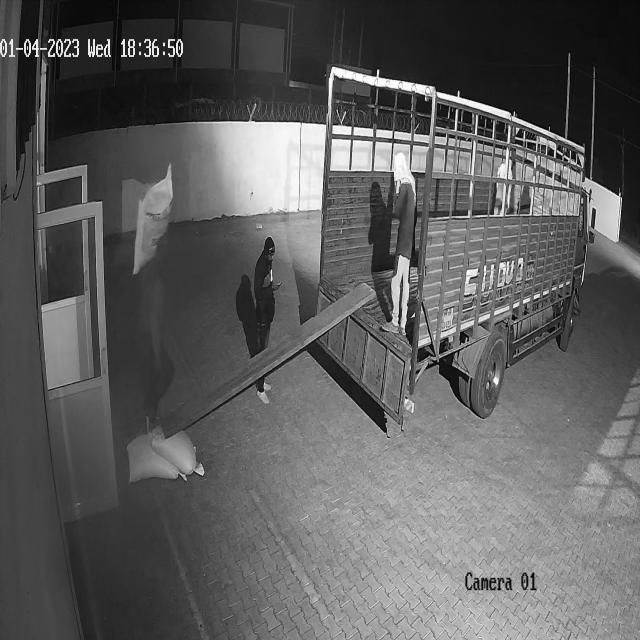sack: (134, 162, 173, 276), (148, 424, 204, 476), (126, 435, 179, 481)
